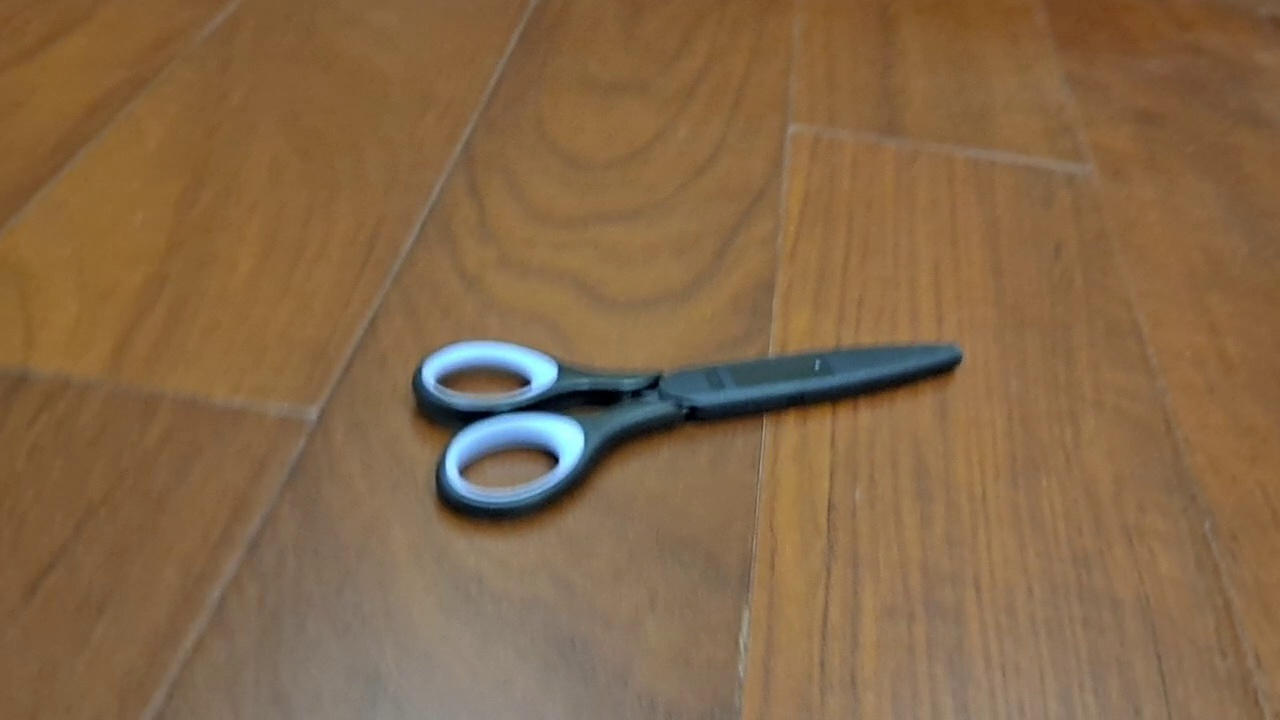scissors: (411, 336, 965, 522)
